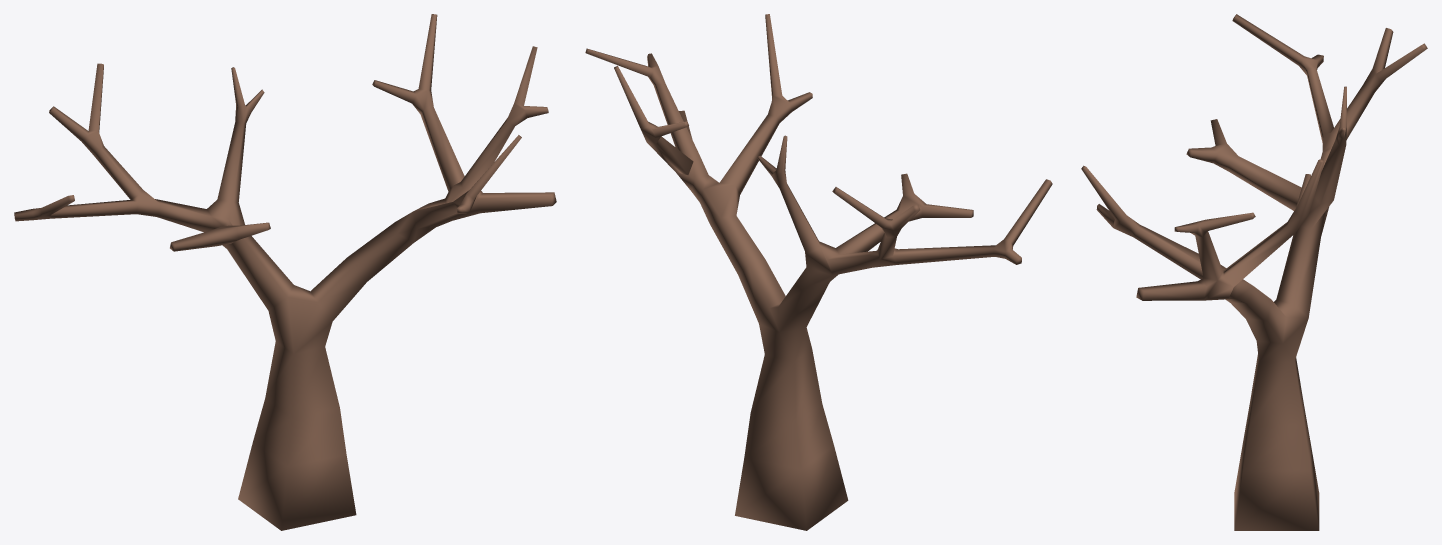
File: Acacia_Dry_Brown_2.fbx
3 views of the same model, side by side, from view 1: azimuth 30°, elevation 25°; view 2: azimuth 150°, elevation 25°; view 3: azimuth 270°, elevation 25° (orthographic). The views are drawn at different scales.
Parts seen in each view (by area): view 1: Acacia_Dry_Brown_2; view 2: Acacia_Dry_Brown_2; view 3: Acacia_Dry_Brown_2.
Boxes of the visible parts, left/top/right/bottom form: Acacia_Dry_Brown_2: left=14, top=14, right=556, bottom=530; Acacia_Dry_Brown_2: left=585, top=14, right=1052, bottom=530; Acacia_Dry_Brown_2: left=1081, top=14, right=1427, bottom=530.
Bounding box in the file's own units: 623 × 535 × 391.
